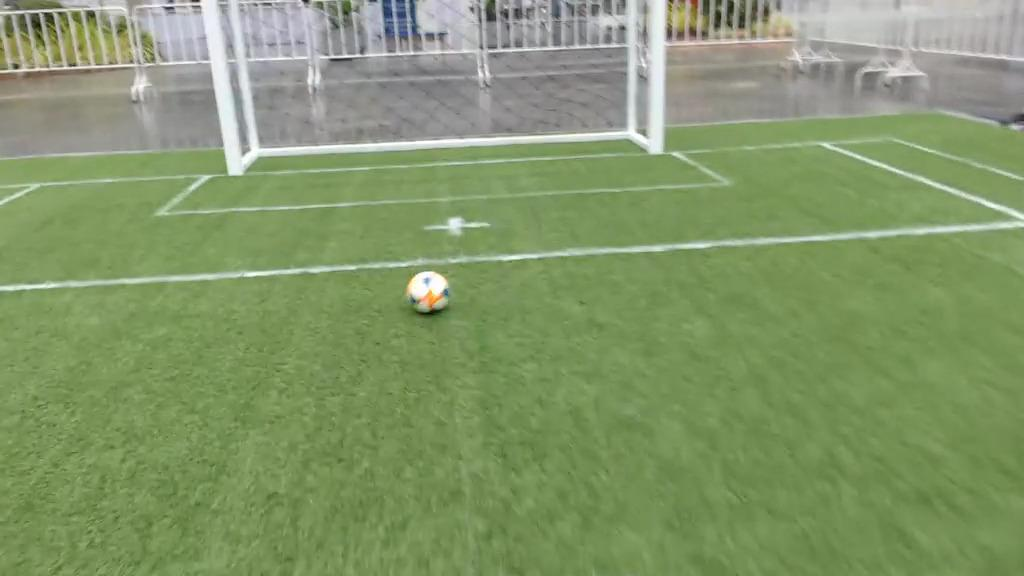ball: (398, 264, 456, 322)
